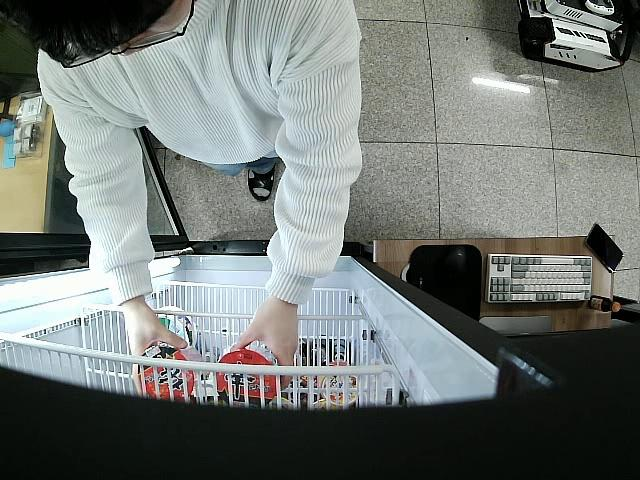00_hand: (229, 297, 299, 394), (121, 303, 188, 394)
02_shinRamen_S: (214, 340, 281, 406), (134, 346, 206, 402)
